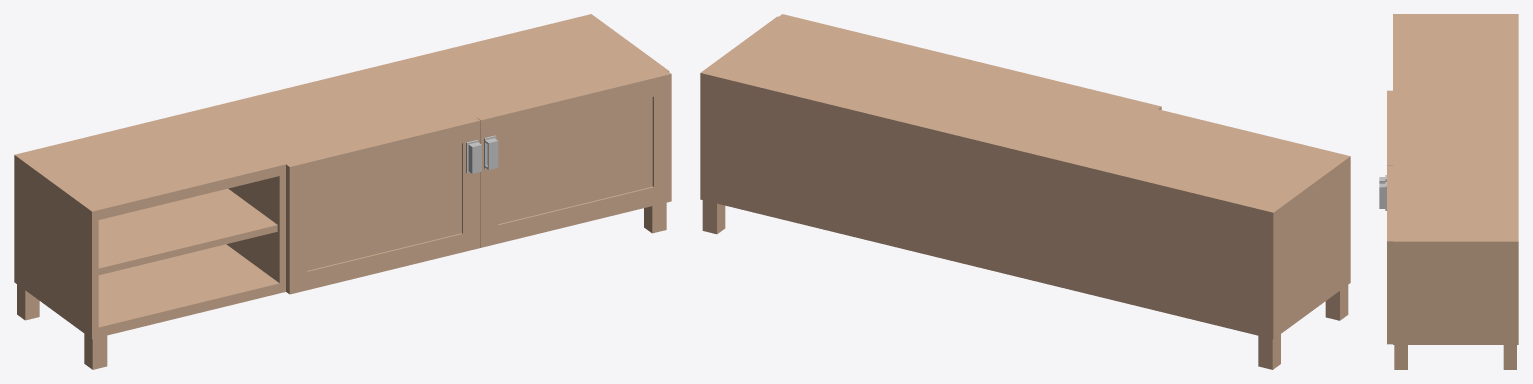
The model's file is stand.gltf.
3 views of the same model, side by side, from view 1: azimuth 30°, elevation 25°; view 2: azimuth 150°, elevation 25°; view 3: azimuth 270°, elevation 25° (orthographic). The views are drawn at different scales.
Parts seen in each view (by area): view 1: Box002, Box012, Box017, Box001, Box003, Box004, Box009, Box014, Box008, Box011, Box016, Box007 (+6 smaller); view 2: Box002, Box023, Box006, Box003, Box001, Box008, Box022, Box019, Box021, Box014, Box009, Box018; view 3: Box002, Box022, Box001, Box015, Box009, Box014, Box020, Box021, Box024.
Boxes of the visible parts, left/top/right/bottom form: Box002: left=14, top=14, right=669, bottom=221; Box012: left=307, top=143, right=461, bottom=270; Box017: left=498, top=97, right=652, bottom=224; Box001: left=14, top=244, right=285, bottom=338; Box003: left=14, top=165, right=98, bottom=328; Box004: left=98, top=188, right=277, bottom=275; Box009: left=304, top=122, right=462, bottom=180; Box014: left=495, top=75, right=653, bottom=134; Box008: left=226, top=174, right=285, bottom=283; Box011: left=307, top=233, right=462, bottom=290; Box016: left=498, top=186, right=653, bottom=243; Box007: left=286, top=160, right=307, bottom=294; Box002: left=700, top=16, right=1350, bottom=222; Box023: left=706, top=84, right=1080, bottom=282; Box006: left=1087, top=177, right=1266, bottom=327; Box003: left=1267, top=166, right=1350, bottom=329; Box001: left=700, top=189, right=1350, bottom=339; Box008: left=1080, top=176, right=1087, bottom=283; Box022: left=700, top=83, right=706, bottom=190; Box019: left=1258, top=334, right=1280, bottom=369; Box021: left=702, top=200, right=725, bottom=234; Box014: left=796, top=18, right=953, bottom=58; Box009: left=986, top=64, right=1143, bottom=104; Box018: left=1325, top=285, right=1348, bottom=320; Box002: left=1393, top=14, right=1518, bottom=249; Box022: left=1393, top=250, right=1518, bottom=336; Box001: left=1393, top=336, right=1518, bottom=344; Box015: left=1387, top=234, right=1392, bottom=344; Box009: left=1387, top=97, right=1392, bottom=158; Box014: left=1387, top=173, right=1392, bottom=234; Box020: left=1394, top=345, right=1407, bottom=369; Box021: left=1503, top=345, right=1516, bottom=369; Box024: left=1379, top=182, right=1386, bottom=210.
Bounding box in the file's own units: 17.95 × 4.74 × 4.64.
